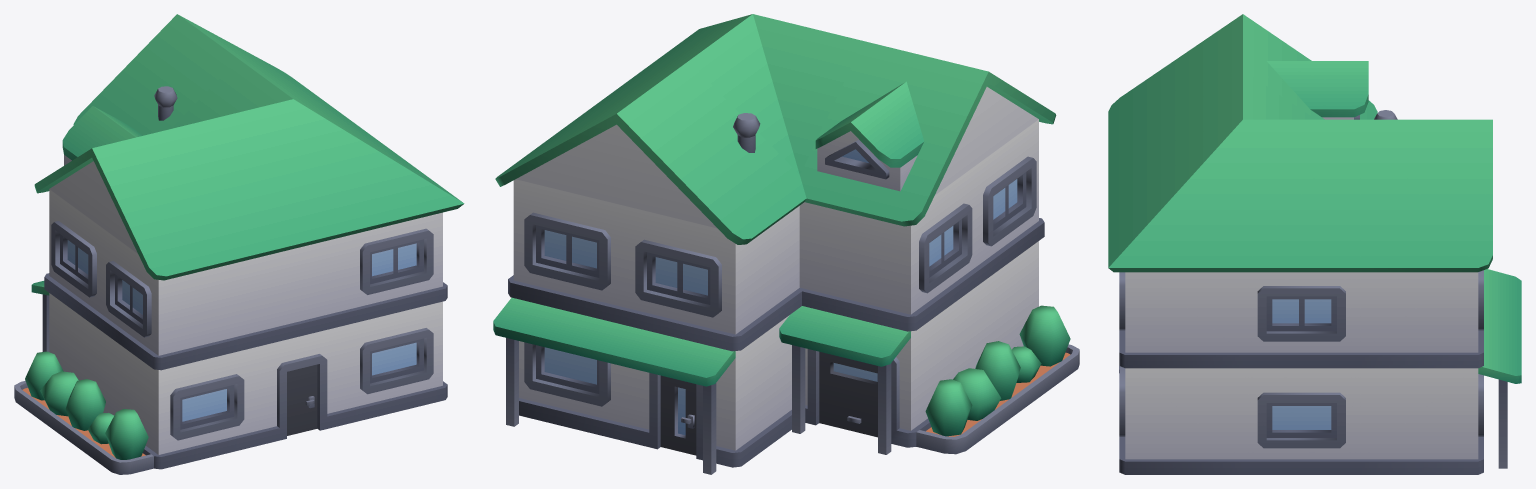
File: house_suburb_f.glb
3 renders of one model, left to right at view 1: azimuth 30°, elevation 25°; view 2: azimuth 150°, elevation 25°; view 3: azimuth 270°, elevation 25°, orthographic. The views are drawn at different scales.
Visible parts, largest first — view 1: building-type-f; view 2: building-type-f; view 3: building-type-f.
Part boxes in pixels (x1,y1,x2,y2): building-type-f: [14, 14, 464, 474]; building-type-f: [493, 14, 1079, 474]; building-type-f: [1108, 14, 1521, 474].
Size of the model in its own units: 1.43 by 1.14 by 1.41.
Materials: 1 (1 with a texture image).
